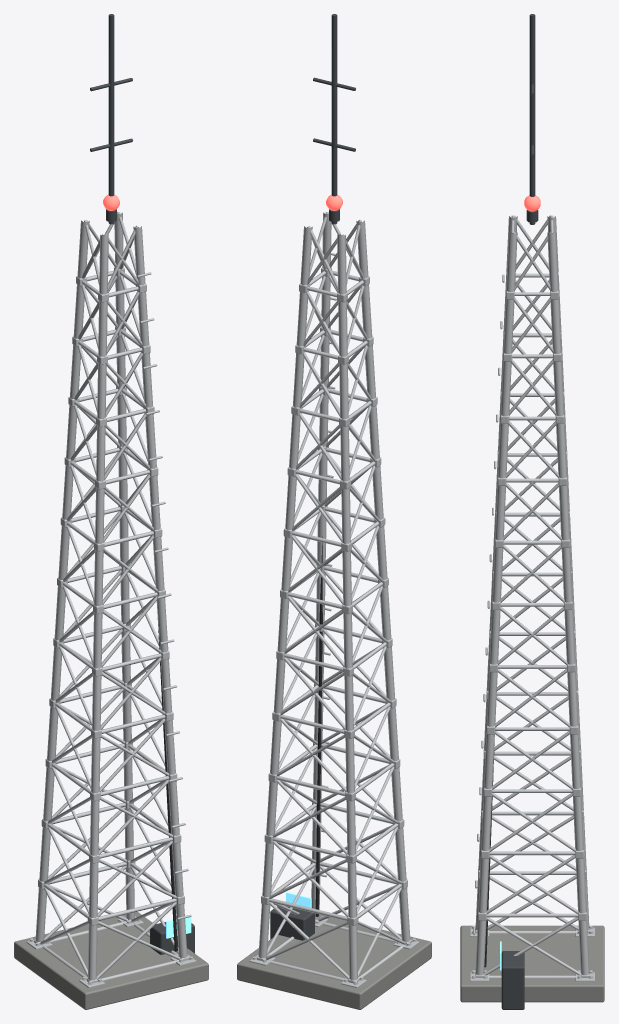
File: fps-survival-forest-outpost-radio-mast-cba3b9db.glb
3 views of the same model, side by side, from view 1: azimuth 30°, elevation 25°; view 2: azimuth 150°, elevation 25°; view 3: azimuth 270°, elevation 25° (orthographic).
Parts seen in each view (by area): view 1: radio-mast, antenna; view 2: radio-mast, antenna; view 3: radio-mast, antenna.
Boxes of the visible parts, x1,y1,x2,y2 form: radio-mast: (14,194,208,1009); antenna: (90,14,132,224); radio-mast: (237,194,431,1009); antenna: (313,14,355,224); radio-mast: (460,195,604,1009); antenna: (526,14,538,224).
Bounding box in the file's own units: 1.58 × 11.05 × 1.5.
6 materials, 1 textured.
